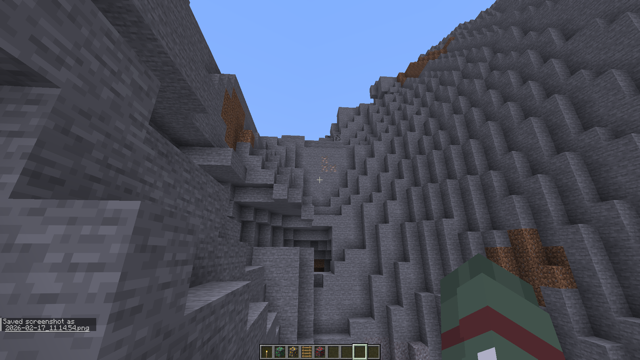coal: (331, 132, 342, 142)
iron: (320, 154, 339, 174)
